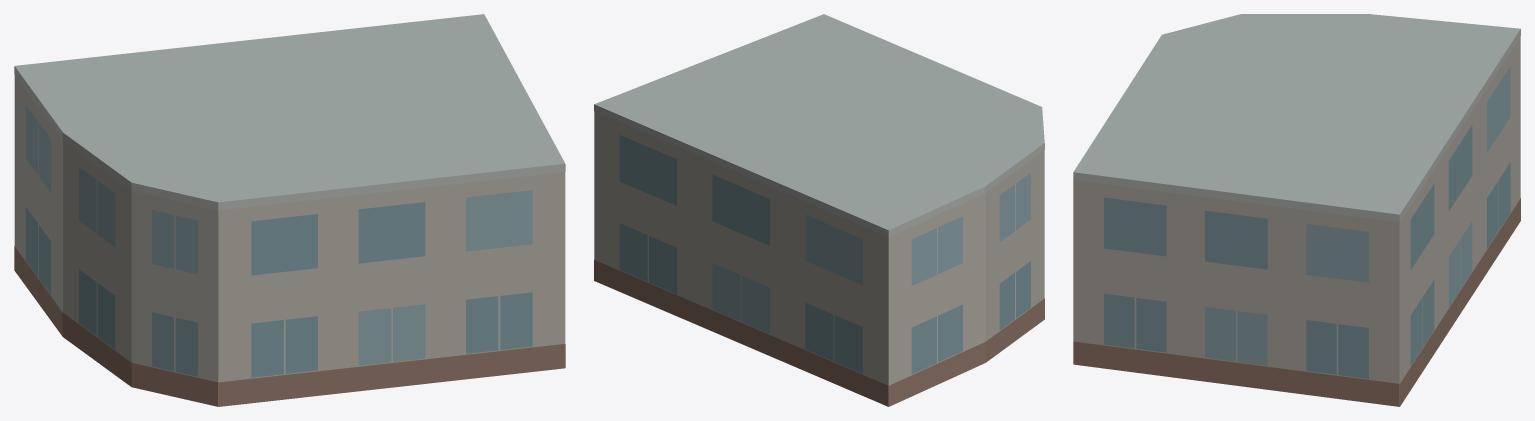
Rendered from survey-upis-32787282.glb.
3 renders of one model, left to right at view 1: azimuth 30°, elevation 25°; view 2: azimuth 150°, elevation 25°; view 3: azimuth 270°, elevation 25°, orthographic. The views are drawn at different scales.
Parts seen in each view (by area): view 1: survey-upis-32787282.tmp; view 2: survey-upis-32787282.tmp; view 3: survey-upis-32787282.tmp.
Boxes of the visible parts, bbox=[...] form: survey-upis-32787282.tmp: bbox=[14, 14, 565, 406]; survey-upis-32787282.tmp: bbox=[594, 14, 1044, 406]; survey-upis-32787282.tmp: bbox=[1073, 14, 1520, 406].
Bounding box in the file's own units: 13.67 × 6.1 × 12.88.
